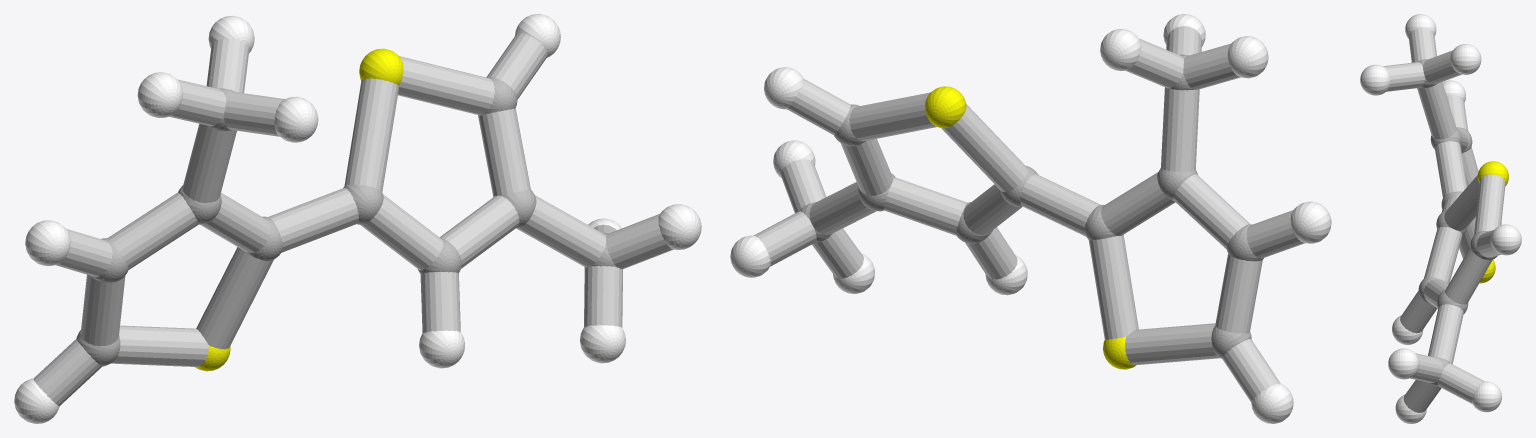
The model's file is Methylthiophene_Phi_15_Theta_320_Methylthiophene.glb.
The picture shows the model from 3 angles, left to right: view 1: azimuth 30°, elevation 25°; view 2: azimuth 150°, elevation 25°; view 3: azimuth 270°, elevation 25°; orthographic projection. The views are drawn at different scales.
Parts seen in each view (by area): view 1: grp7965, grp3621, grp1, grp7241; view 2: grp7965, grp3621, grp1, grp7241; view 3: grp7965, grp3621, grp1, grp7241.
Part boxes in pixels (x1,y1,x2,y2): grp7965: [33, 33, 673, 406]; grp3621: [14, 14, 701, 423]; grp1: [76, 77, 616, 366]; grp7241: [195, 48, 403, 371]; grp7965: [754, 26, 1304, 402]; grp3621: [730, 14, 1331, 423]; grp1: [799, 54, 1263, 358]; grp7241: [925, 86, 1135, 369]; grp7965: [1383, 27, 1505, 412]; grp3621: [1360, 14, 1521, 423]; grp1: [1417, 59, 1497, 386]; grp7241: [1477, 161, 1508, 283].
Size of the model in its own units: 9.55 by 5.66 by 3.1.
